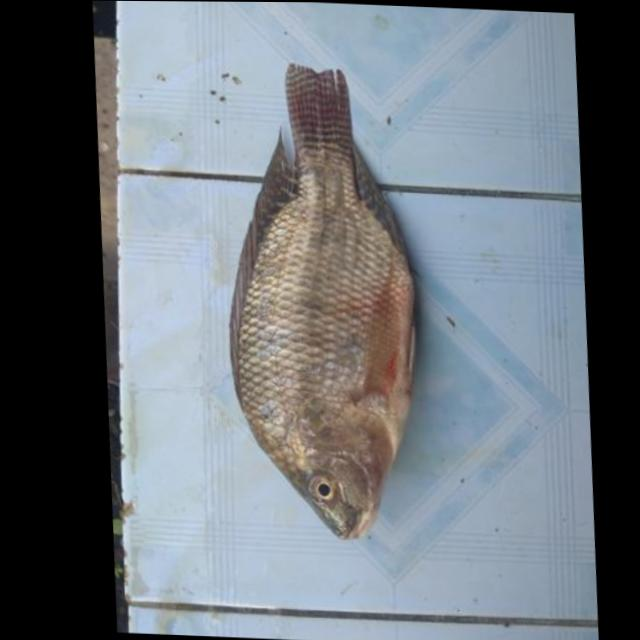Tilapia: (198, 57, 443, 545)
